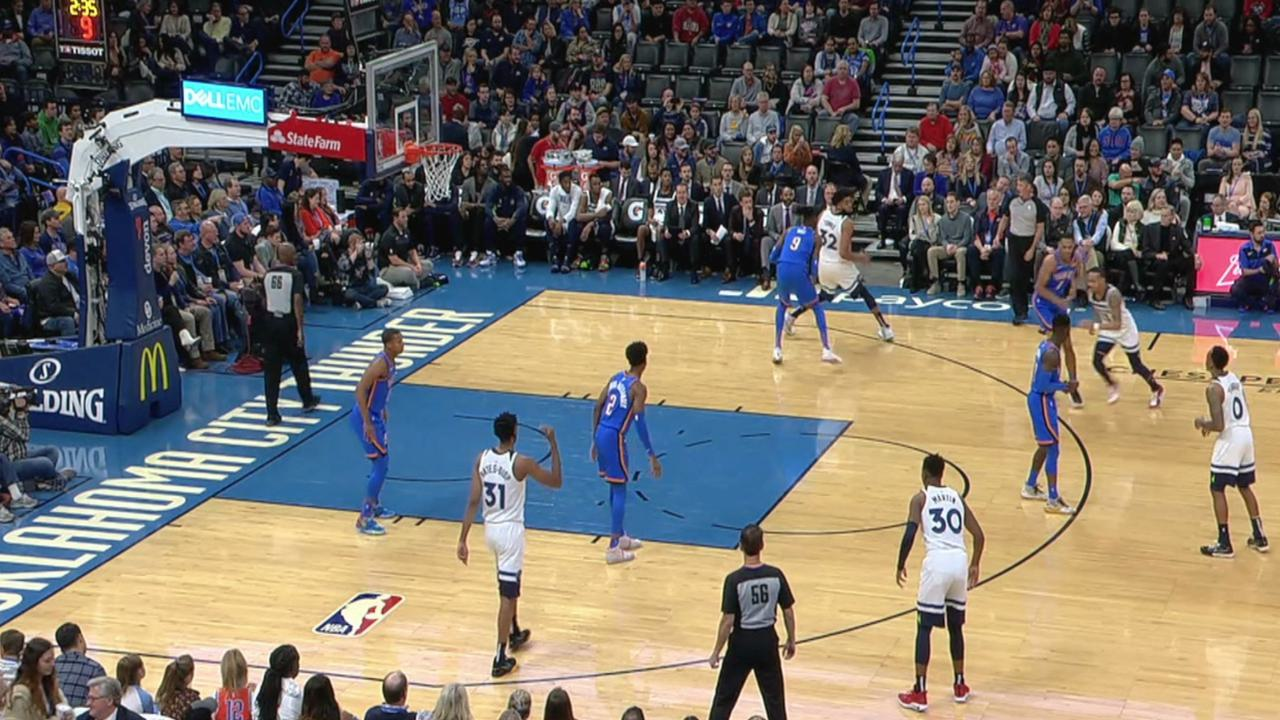players: (461, 403, 546, 674), (900, 445, 977, 711), (1194, 344, 1269, 559), (597, 332, 659, 567), (1085, 268, 1161, 417), (356, 319, 401, 531), (777, 212, 826, 358), (1037, 313, 1070, 505), (825, 193, 869, 335), (1034, 226, 1082, 312)
